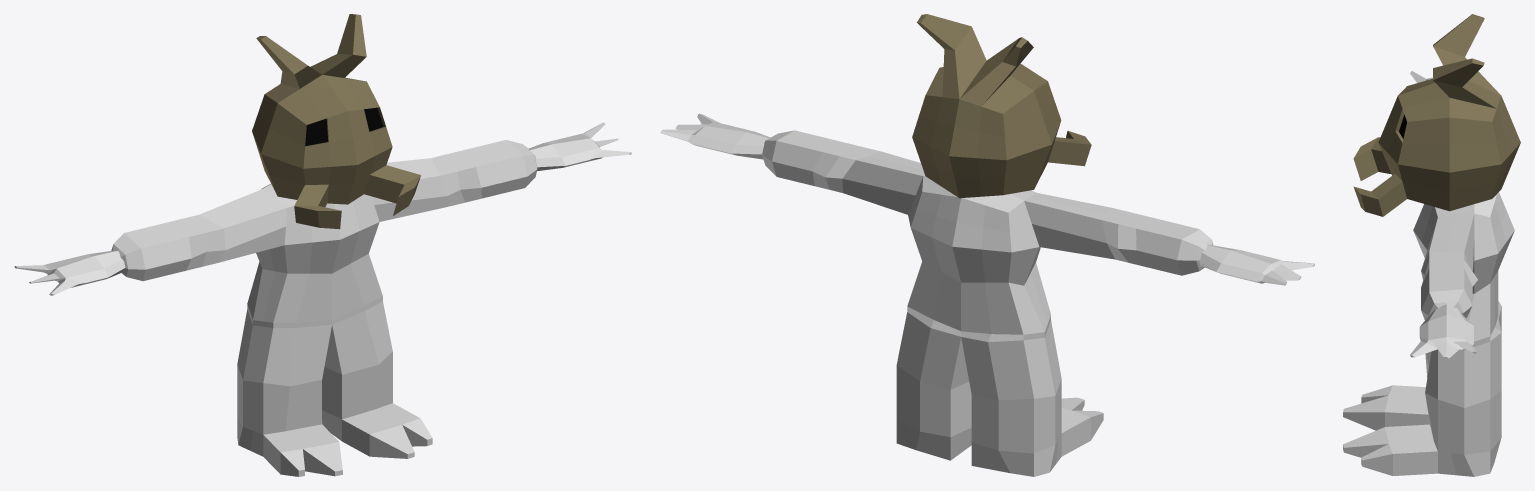
The model's file is dummy5g.fbx.
The picture shows the model from 3 angles, left to right: view 1: azimuth 30°, elevation 25°; view 2: azimuth 150°, elevation 25°; view 3: azimuth 270°, elevation 25°; orthographic projection. The views are drawn at different scales.
Visible parts, largest first — view 1: Cylinder; view 2: Cylinder; view 3: Cylinder.
Part boxes in pixels (x1=…): Cylinder: x1=14, y1=14, x2=631, y2=476; Cylinder: x1=660, y1=14, x2=1314, y2=476; Cylinder: x1=1343, y1=14, x2=1520, y2=476.
Size of the model in its own units: 198 by 130 by 51.52.
